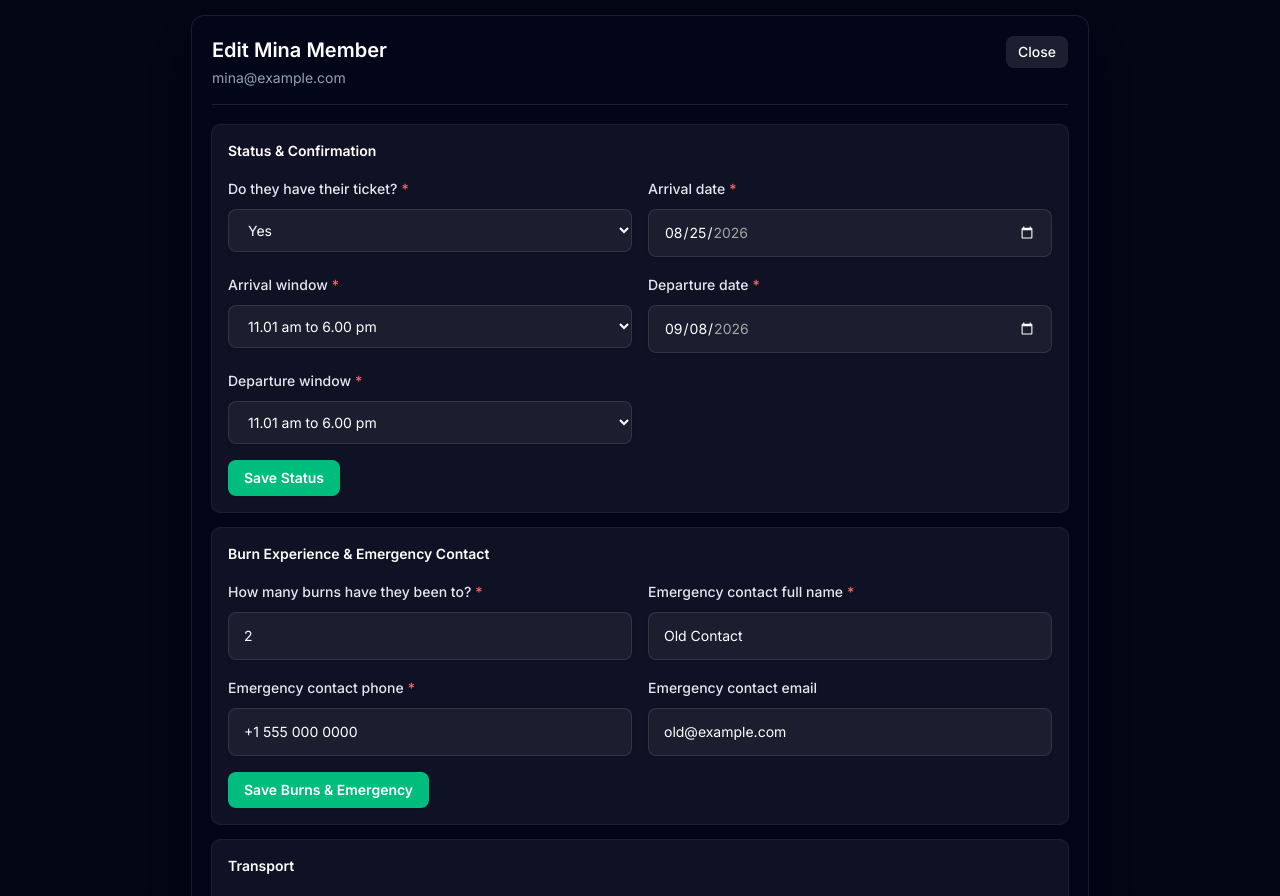
ProfileEditDialog › shows when a status save restores payment
This screenshot has width=1280, height=896.
Click the button "Save Status".
click(284, 478)  # box 228,460 -> 340,496
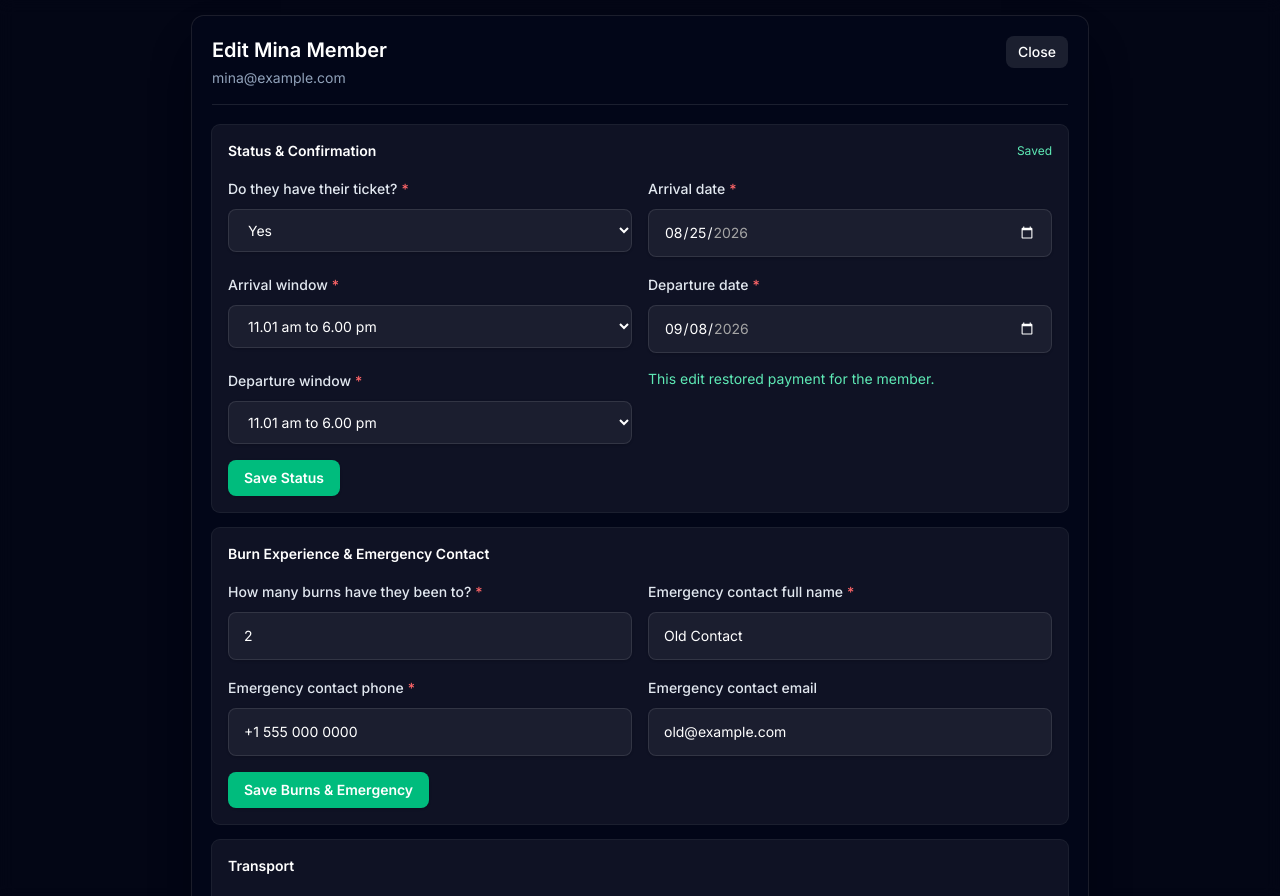
expect the text "This edit restored payment for the member." is shown: met, box 648,370 -> 934,387
